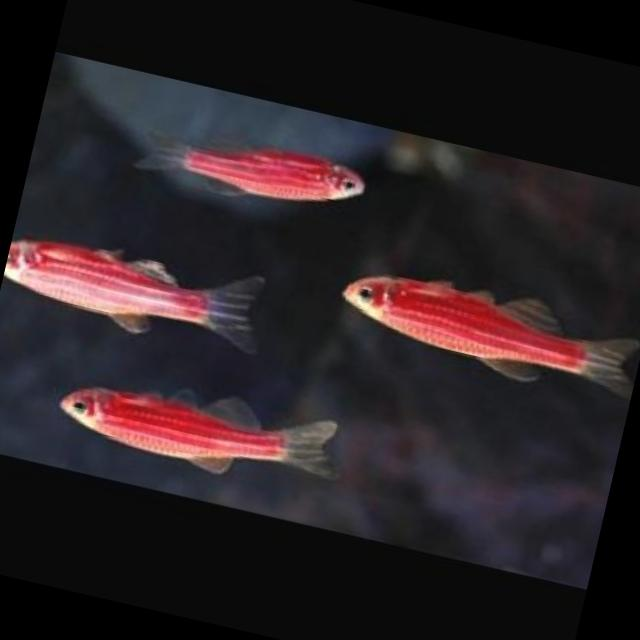ZebraFish: (324, 254, 640, 409), (49, 358, 343, 503), (0, 224, 274, 361), (130, 115, 370, 228)
